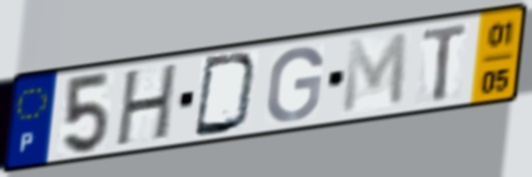5: (59, 67, 112, 157)
D: (190, 51, 262, 140)
G: (263, 44, 327, 125)
H: (112, 60, 182, 151)
M: (339, 29, 411, 118)
T: (419, 20, 472, 106)
